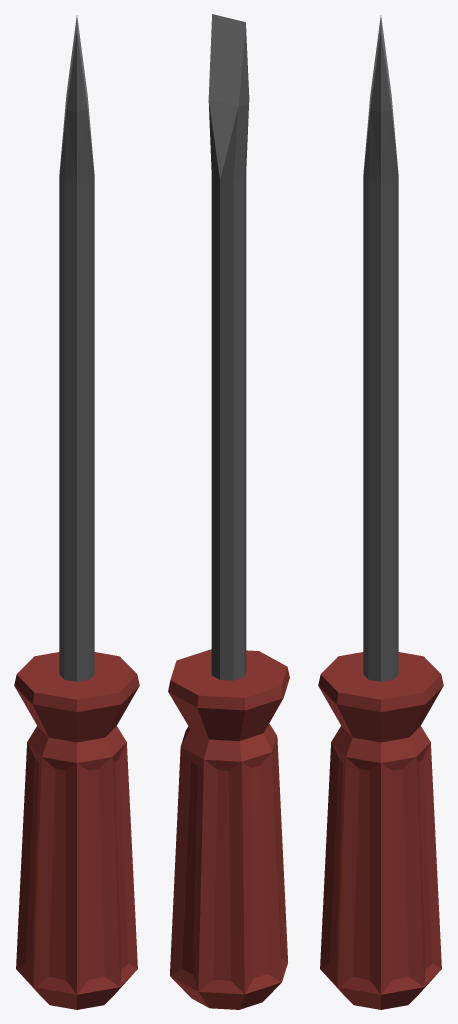
File: Screwdriver_mat.fbx
3 renders of one model, left to right at view 1: azimuth 90°, elevation 25°; view 2: azimuth 150°, elevation 25°; view 3: azimuth 270°, elevation 25°, orthographic.
Parts seen in each view (by area): view 1: Screwdriver_mat; view 2: Screwdriver_mat; view 3: Screwdriver_mat.
Part boxes in pixels (box(x1,y1,x2,y2)): Screwdriver_mat: box(14, 15, 139, 1009); Screwdriver_mat: box(168, 14, 289, 1009); Screwdriver_mat: box(318, 15, 443, 1009).
Bounding box in the file's own units: 3.91 × 33.38 × 3.91.
